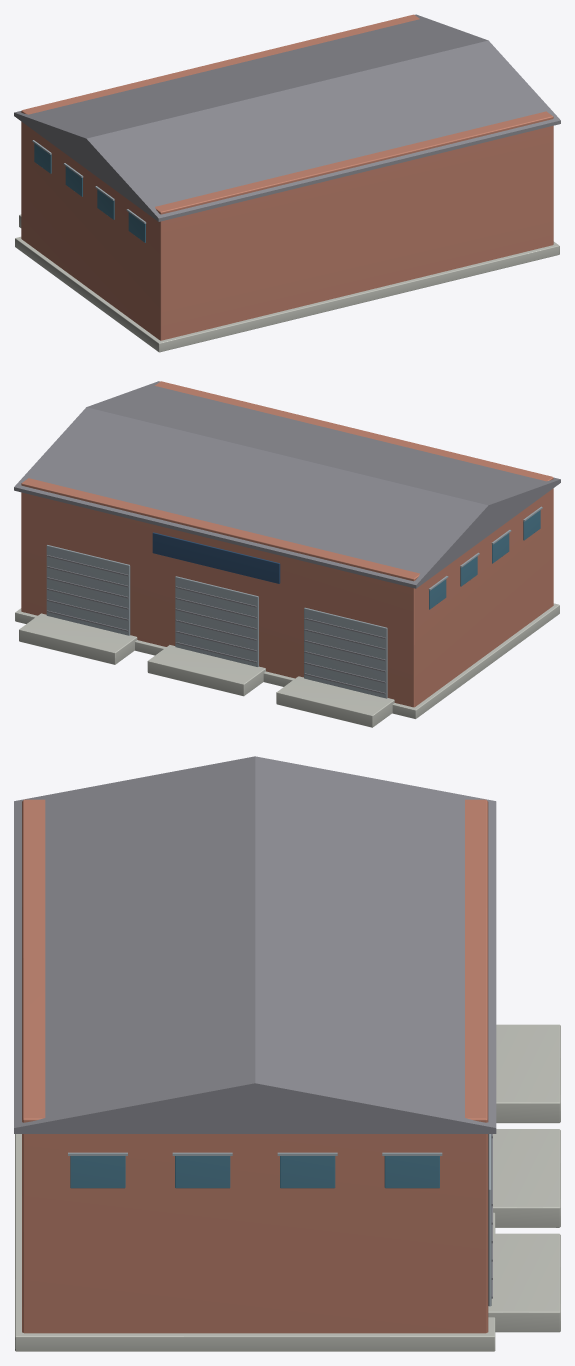
The model's file is warehouse.glb.
The picture shows the model from 3 angles, top to bottom: view 1: azimuth 30°, elevation 25°; view 2: azimuth 150°, elevation 25°; view 3: azimuth 270°, elevation 25°; orthographic projection. The views are drawn at different scales.
Parts seen in each view (by area): view 1: warehouse_main, warehouse_Roof_Clay, warehouse_Warm_Concrete, warehouse_Building_Window_Blue; view 2: warehouse_Roof_Clay, warehouse_main, warehouse_Brushed_Metal, warehouse_Warm_Concrete, warehouse_sign, warehouse_Building_Window_Blue; view 3: warehouse_Roof_Clay, warehouse_main, warehouse_Warm_Concrete, warehouse_Building_Window_Blue, warehouse_Brushed_Metal.
Boxes of the visible parts, left/top/right/bottom form: warehouse_main: left=21, top=14, right=553, bottom=340; warehouse_Roof_Clay: left=14, top=14, right=560, bottom=221; warehouse_Warm_Concrete: left=15, top=214, right=559, bottom=352; warehouse_Building_Window_Blue: left=34, top=143, right=145, bottom=242; warehouse_Roof_Clay: left=14, top=381, right=560, bottom=694; warehouse_main: left=21, top=381, right=553, bottom=707; warehouse_Brushed_Metal: left=46, top=506, right=542, bottom=698; warehouse_Warm_Concrete: left=15, top=603, right=559, bottom=727; warehouse_sign: left=152, top=532, right=280, bottom=583; warehouse_Building_Window_Blue: left=429, top=510, right=540, bottom=609; warehouse_Roof_Clay: left=14, top=756, right=496, bottom=1298; warehouse_main: left=22, top=799, right=488, bottom=1333; warehouse_Warm_Concrete: left=15, top=1024, right=560, bottom=1351; warehouse_Building_Window_Blue: left=70, top=1156, right=439, bottom=1188; warehouse_Brushed_Metal: left=68, top=1134, right=491, bottom=1306.
Bounding box in the file's own units: 26.56 × 10.2 × 18.78.
